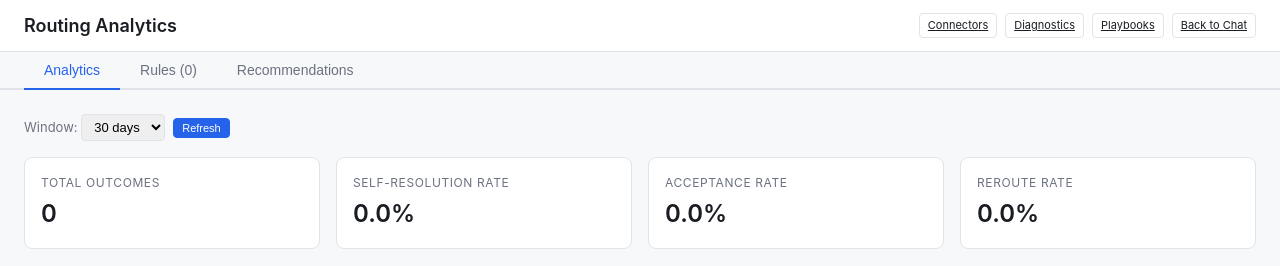
Scenario: RoutingAnalyticsPage › switches to recommendations tab
The image size is (1280, 266).
Click the button "Recommendations". click: point(295, 71)
box: [217, 52, 374, 90]
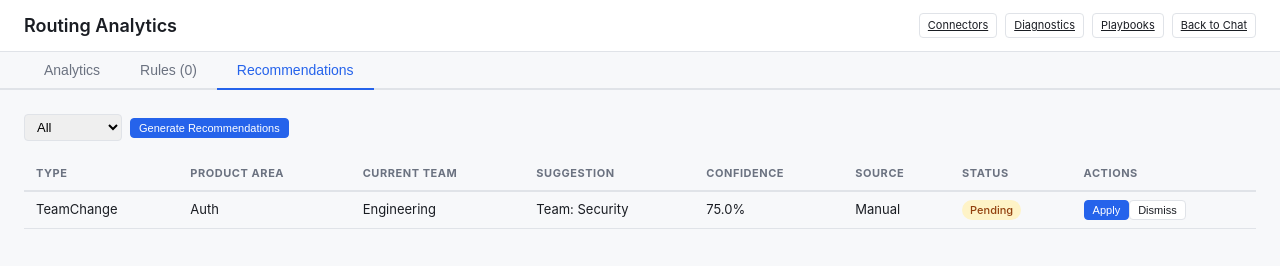
Result: the text "TeamChange" is shown at [24, 190, 178, 228]
Result: the text "Team: Security" is shown at [524, 190, 694, 228]
